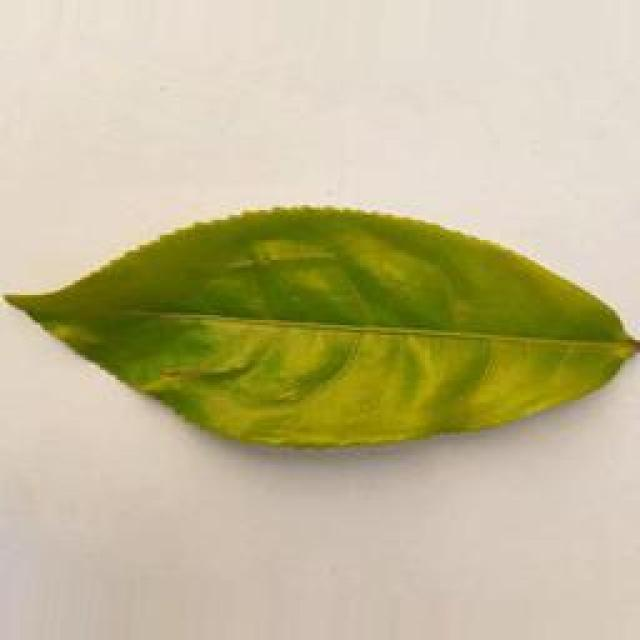Healthy: (2, 203, 640, 445)
